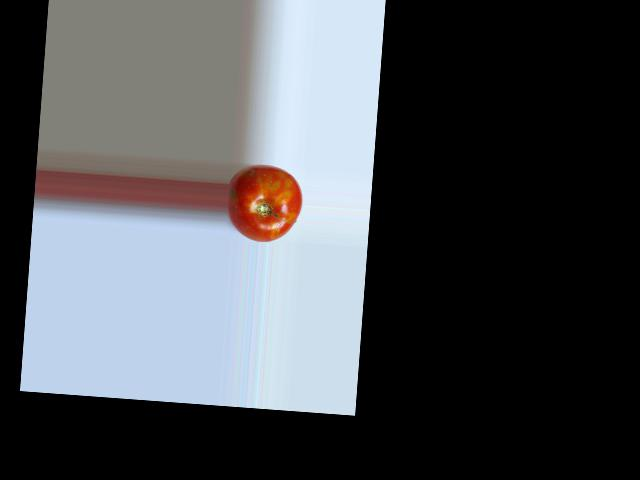tomato: (224, 162, 304, 244)
